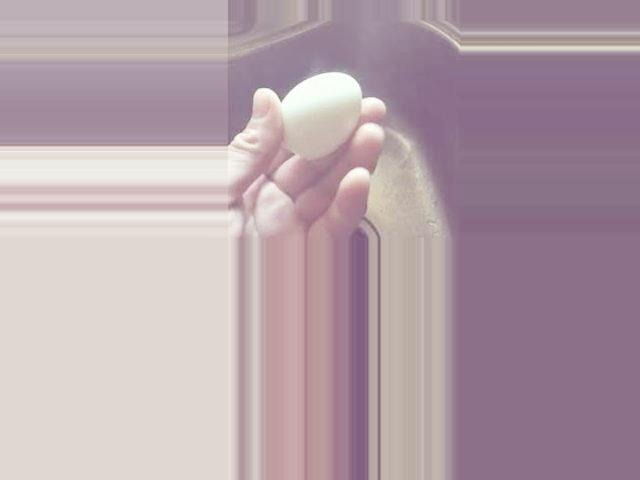egg: (280, 72, 361, 158)
